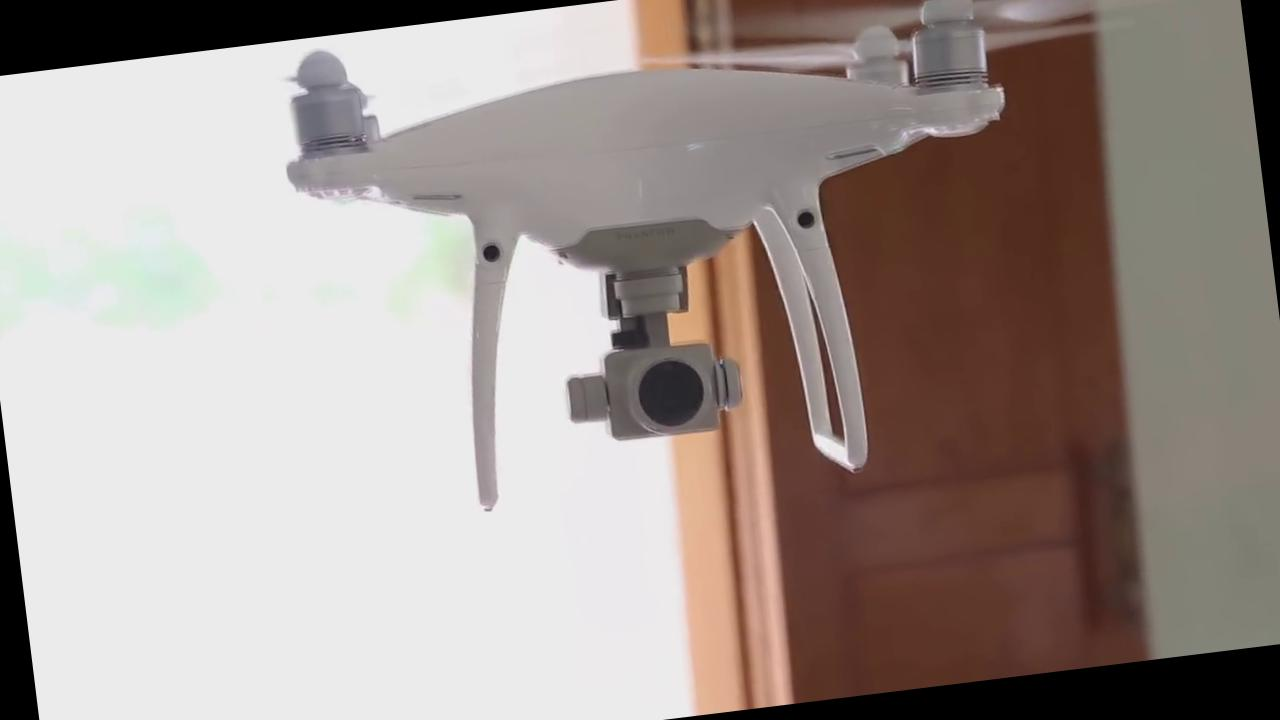drone: (261, 0, 1048, 415)
